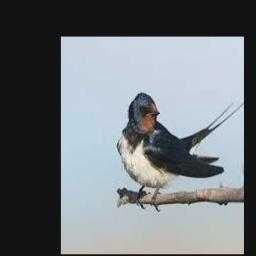Swallow: (118, 93, 244, 208)
